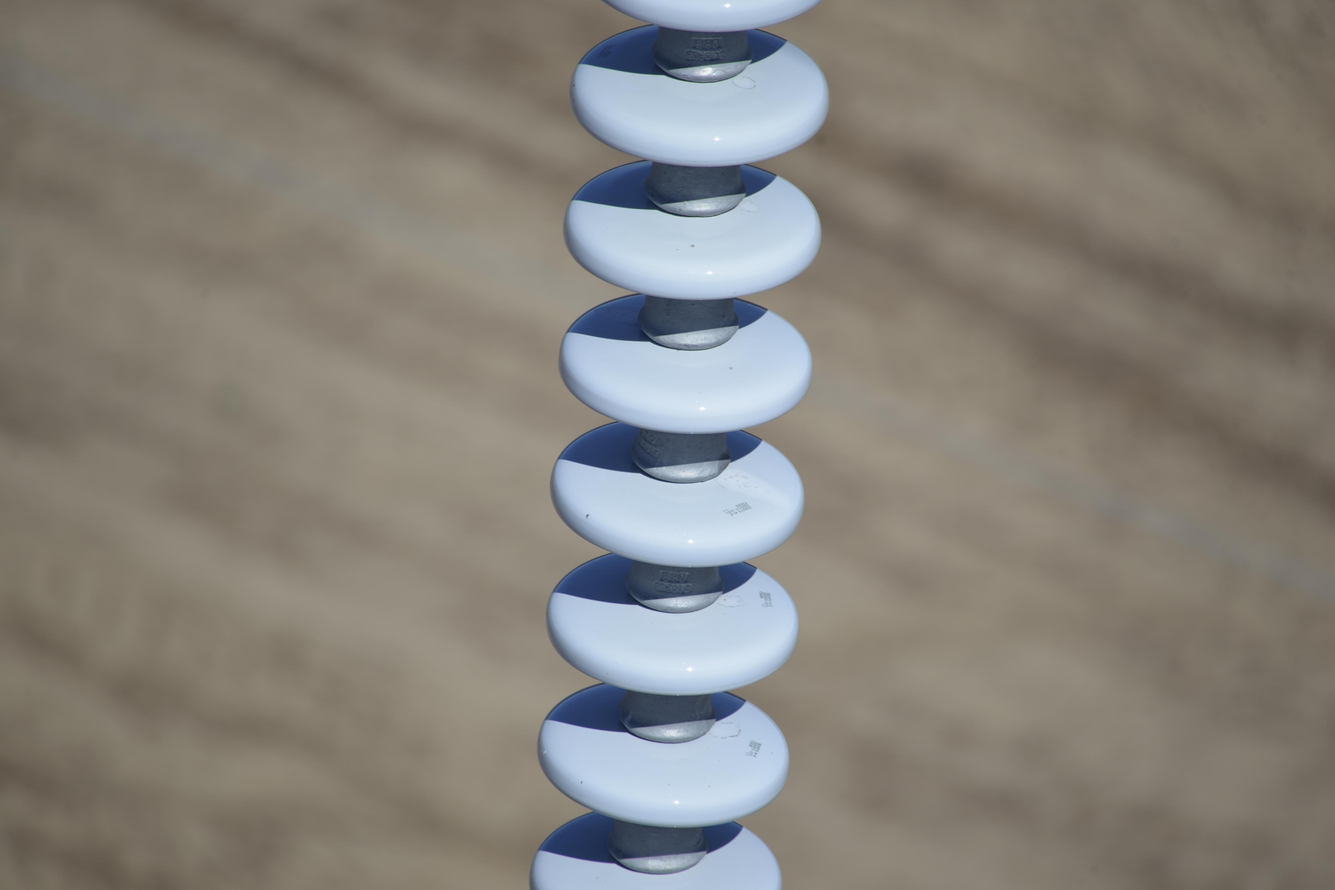Flashover: (708, 451, 790, 520)
insulator: (510, 1, 830, 890)
